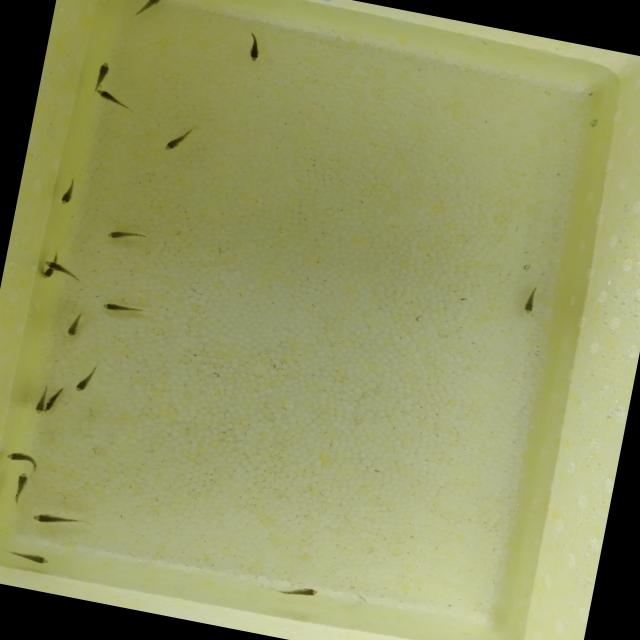fingerling: (267, 575, 327, 608), (29, 506, 86, 536), (2, 544, 62, 571), (160, 119, 198, 159), (121, 0, 169, 29), (91, 88, 138, 114), (98, 297, 148, 320), (104, 225, 152, 248), (4, 469, 32, 508), (72, 360, 100, 397), (517, 282, 545, 319), (240, 28, 266, 66), (0, 446, 42, 469), (62, 308, 86, 341), (57, 174, 80, 208), (92, 59, 114, 87), (42, 259, 76, 274), (28, 398, 48, 418), (50, 386, 66, 406), (40, 270, 55, 280)
